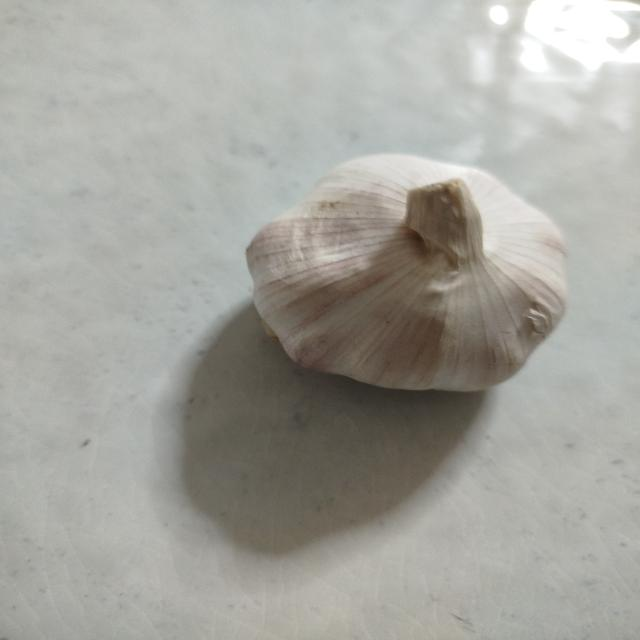garlic: (244, 152, 569, 393)
